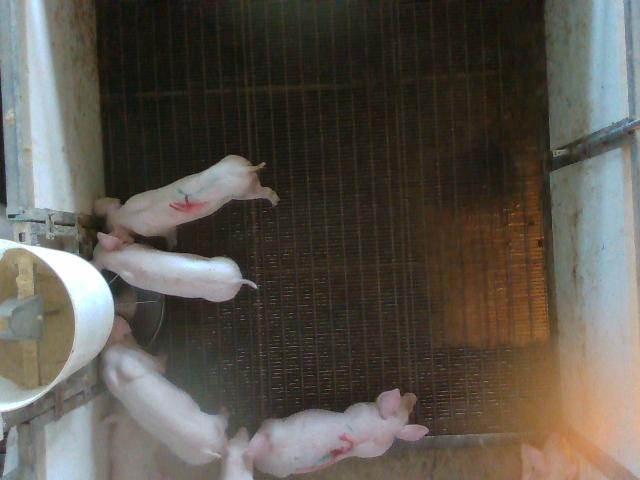pig-3: (256, 389, 429, 477)
pig-4: (95, 155, 279, 247)
